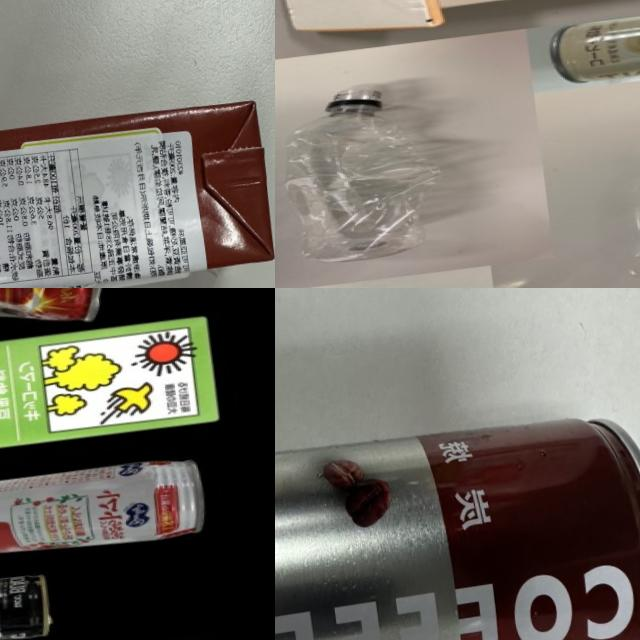Aluminium Foil: (0, 87, 275, 288), (0, 310, 225, 480)
Can: (275, 395, 640, 640), (0, 452, 212, 567), (543, 0, 640, 91)
Transparent Plastic Bottle: (275, 79, 456, 272), (600, 130, 640, 288)
